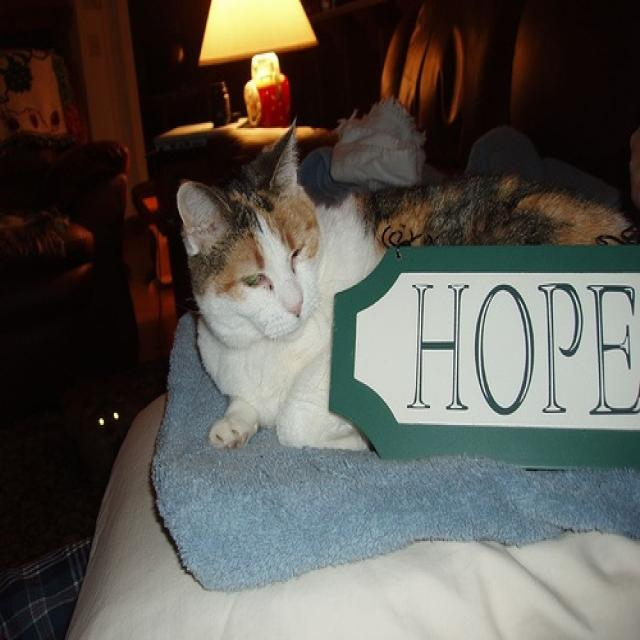cat: (177, 120, 638, 452)
chair: (0, 44, 141, 374)
